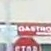stop: (8, 25, 43, 51)
